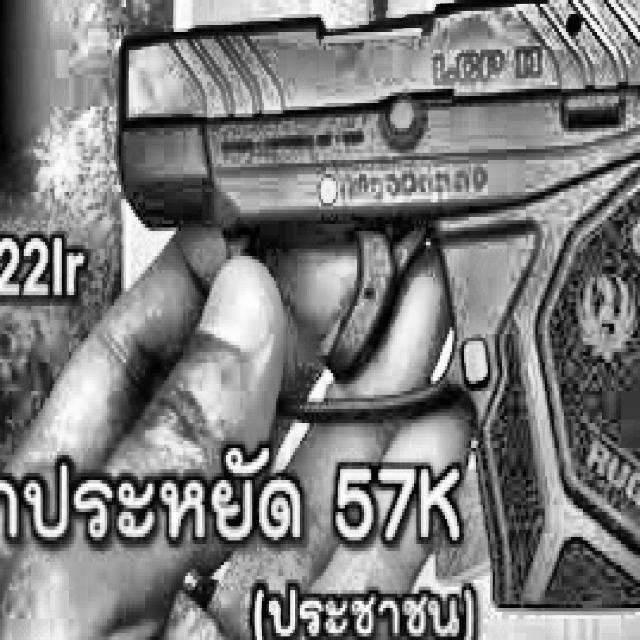Ruger: (114, 0, 640, 640)
